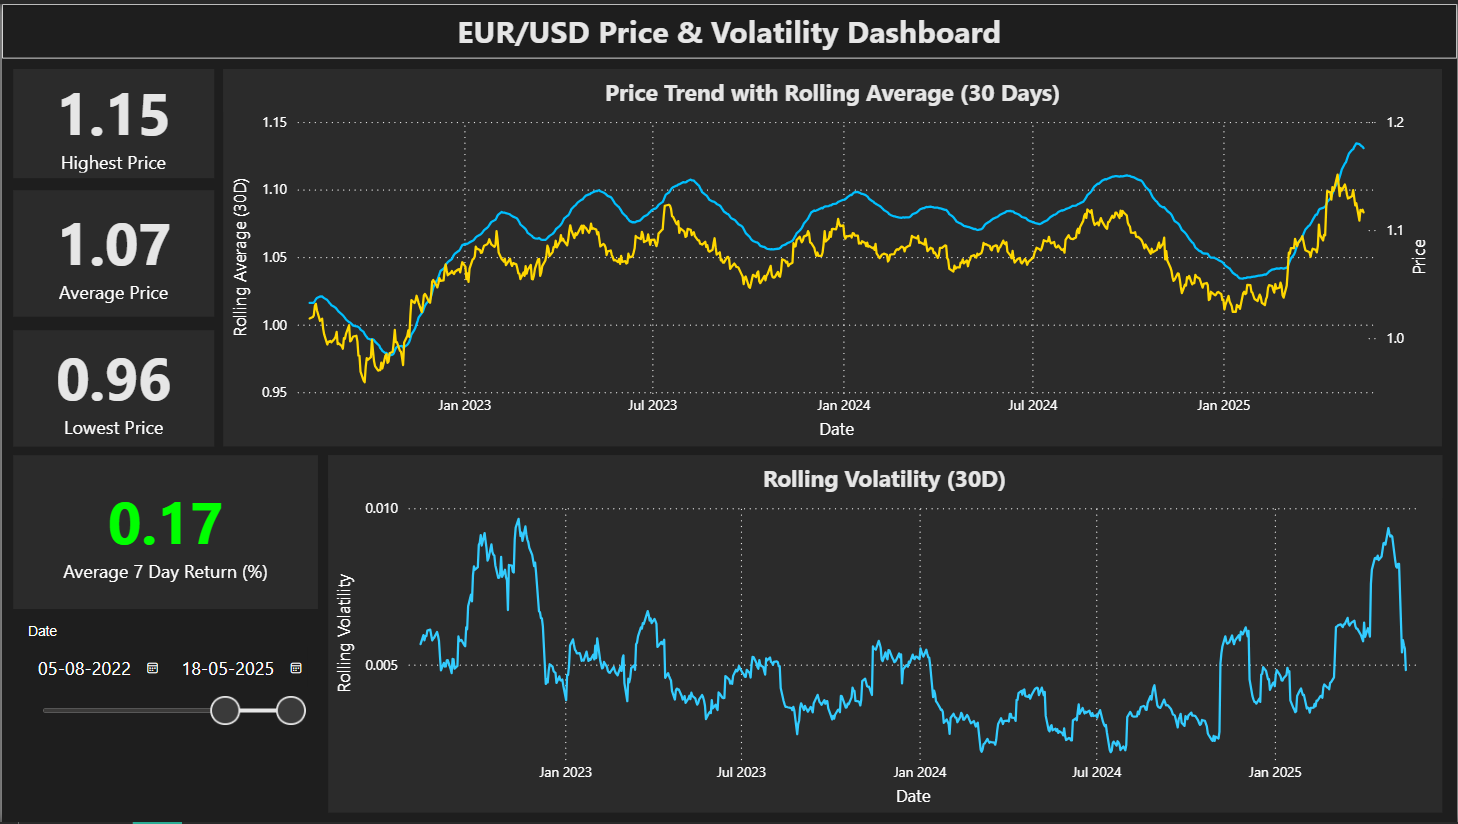

The dashboard page shown, as its layout file describes it:
{"tool":"powerbi","page":{"name":"USD/EUR","canvas":[1280,720],"ordinal":0},"visuals":[{"type":"card","fields":{"Values":["EUR_USD Historical Data.Higesht Price"]},"box":[9.9,57.4,176.6,96],"z":0},{"type":"card","fields":{"Values":["EUR_USD Historical Data.Average Price"]},"box":[9.9,163.8,177,111.1],"z":1000},{"type":"card","fields":{"Values":["EUR_USD Historical Data.Lowest Price"]},"box":[9.9,287,177,102.3],"z":2000},{"type":"lineChart","title":"Price Trend with Rolling Average (30 Days)","fields":{"Y":["EUR_USD Historical Data.Rolling Average (30D)"],"Y2":["Avg(EUR_USD Historical Data.Price)"],"Category":["EUR_USD Historical Data.Date"]},"box":[194.6,57.2,1072.1,332.1],"z":3000},{"type":"slicer","fields":{"Values":["EUR_USD Historical Data.Date"]},"box":[9.9,539.9,268.3,110],"z":4000},{"type":"card","fields":{"Values":["EUR_USD Historical Data.Average 7 Day Return (%)"]},"box":[9.9,396.9,268.3,135.2],"z":5000},{"type":"lineChart","title":"Rolling Volatility (30D)","fields":{"Y":["EUR_USD Historical Data.Rolling Volatility (30D)"],"Category":["EUR_USD Historical Data.Date"]},"box":[287,396.9,979.7,314.5],"z":6000},{"type":"textbox","box":[0,0,1279.9,48.4],"z":7000}]}

Visuals, with their boxes in screenshot pixels (x1, y1, x2, y2), scaled from the page's 1280x720 canvas onto the 1458x824 screenshot:
card - EUR_USD Historical Data.Higesht Price: (11,66,212,176)
card - EUR_USD Historical Data.Average Price: (11,187,213,315)
card - EUR_USD Historical Data.Lowest Price: (11,328,213,446)
"Price Trend with Rolling Average (30 Days)" lineChart: (222,65,1443,446)
slicer - EUR_USD Historical Data.Date: (11,618,317,744)
card - EUR_USD Historical Data.Average 7 Day Return (%): (11,454,317,609)
"Rolling Volatility (30D)" lineChart: (327,454,1443,814)
textbox: (0,0,1457,55)
